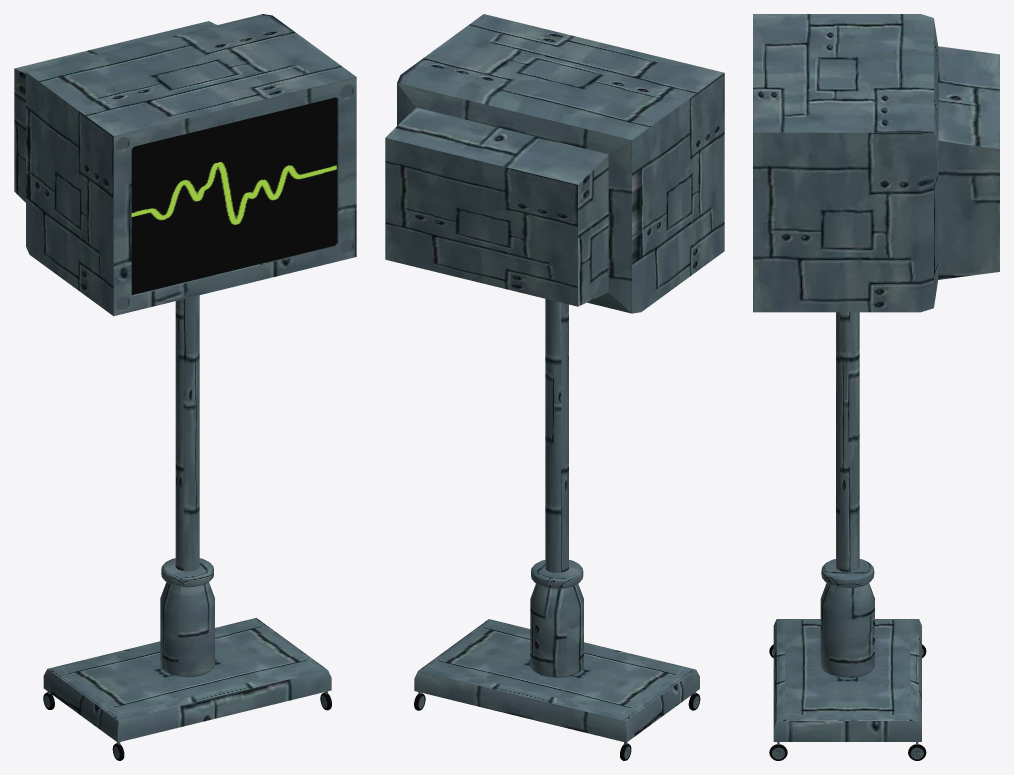
The model's file is karen.glb.
3 renders of one model, left to right at view 1: azimuth 30°, elevation 25°; view 2: azimuth 150°, elevation 25°; view 3: azimuth 270°, elevation 25°, orthographic.
Parts seen in each view (by area): view 1: Karen; view 2: Karen; view 3: Karen.
Boxes of the visible parts, x1,y1,x2,y2 form: Karen: (14,14,356,760); Karen: (385,14,724,760); Karen: (753,14,999,760).
Size of the model in its own units: 114 by 285 by 100.
Materials: 4 (2 with a texture image).
